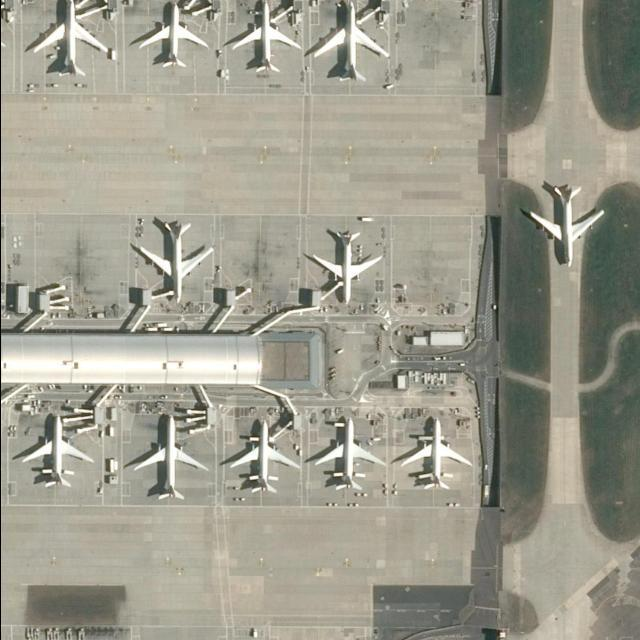Aircraft: (524, 178, 604, 268), (127, 411, 208, 499), (134, 214, 210, 302), (28, 2, 109, 80), (314, 2, 390, 82), (307, 226, 381, 306), (228, 415, 300, 495), (17, 414, 90, 492), (401, 416, 471, 493), (315, 416, 379, 492), (228, 4, 298, 72), (137, 4, 207, 71)
